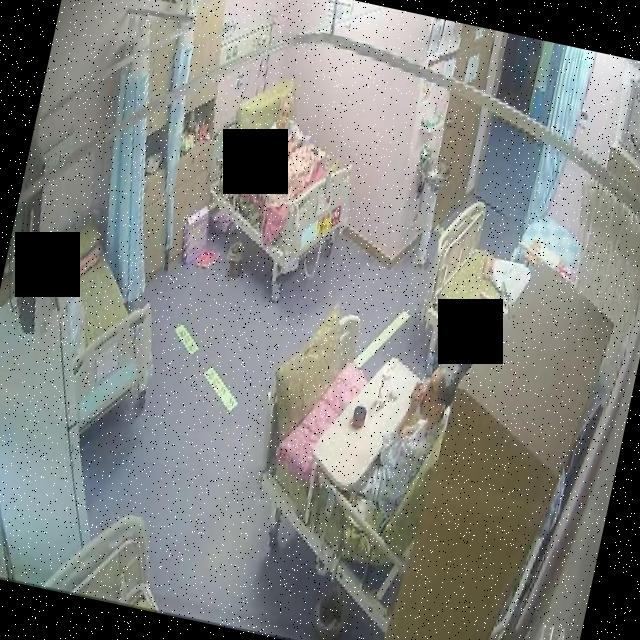bed: (232, 302, 464, 600), (190, 90, 378, 308), (22, 222, 180, 446), (412, 192, 542, 368)
patient: (358, 335, 465, 534), (252, 92, 310, 170)
sit: (359, 337, 466, 540), (251, 92, 310, 175)
